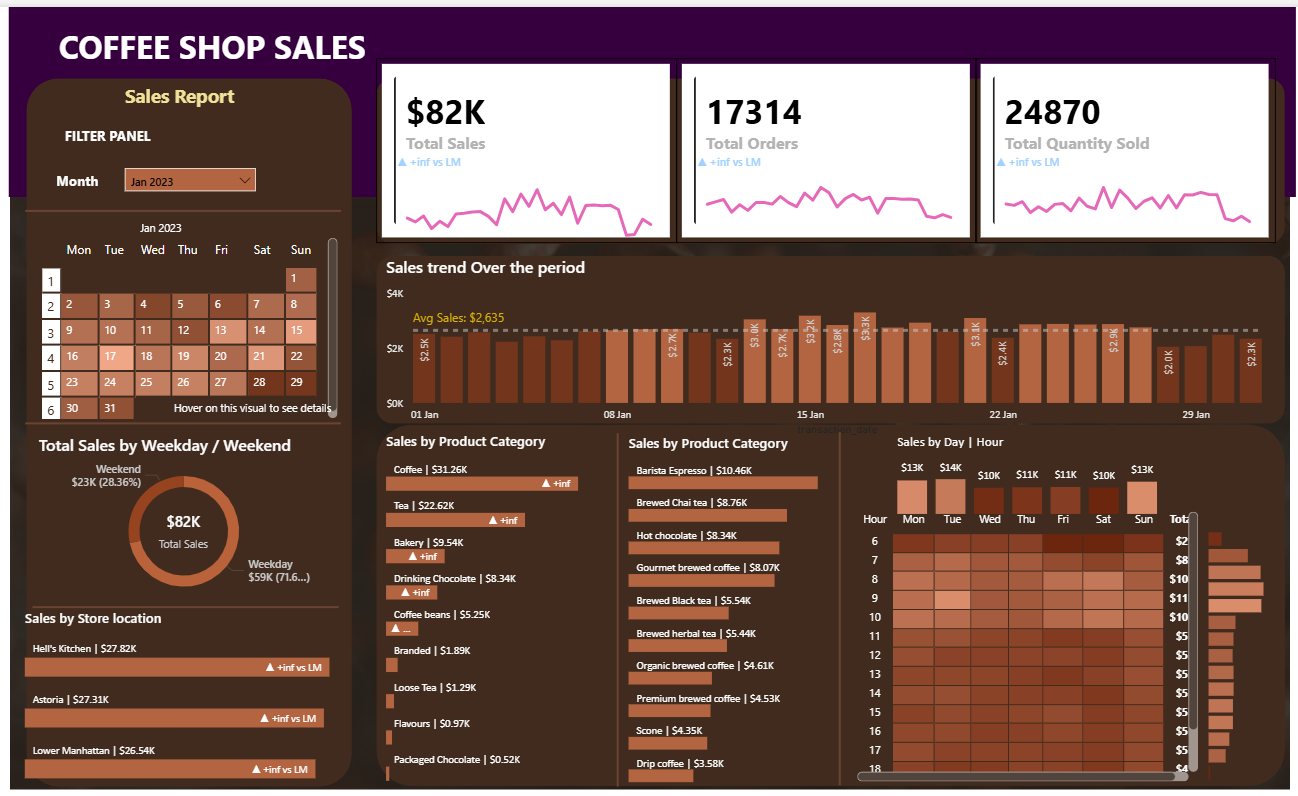

Layout of this report page (visuals, bound fields, positions):
{"tool":"powerbi","page":{"name":"Dashboard","canvas":[1400,850],"ordinal":0},"visuals":[{"type":"shape","box":[58.6,0,1287.1,190],"z":0},{"type":"shape","box":[75.7,71.4,325.7,708.6],"z":1000},{"type":"shape","box":[425.7,71.4,908.6,165.7],"z":2000},{"type":"textbox","box":[104,12.8,321.9,58.4],"z":3000},{"type":"cardVisual","fields":{"Data":["Transactions.Total Sales"]},"box":[425.9,51.3,300.5,185.2],"z":4000,"group":"g1"},{"type":"slicer","fields":{"Values":["Date Table.Month Year"]},"box":[169.5,156.7,141,35.6],"z":4000},{"type":"group","id":"g1","title":"Group 1","box":[425.9,51.3,300.5,185.2],"z":5000},{"type":"cardVisual","fields":{"Data":["Transactions.Total Orders"]},"box":[725.7,51.3,300.5,185.2],"z":5000,"group":"g2"},{"type":"cardVisual","fields":{"Data":["Transactions.Total Quantity Sold"]},"box":[1025.5,51.3,300.5,185.2],"z":5000,"group":"g3"},{"type":"group","id":"g2","title":"Group 2","box":[725.7,51.3,300.5,185.2],"z":6000},{"type":"lineChart","fields":{"Category":["Date Table.Date.Variation.Date Hierarchy.Year","Date Table.Date.Variation.Date Hierarchy.Quarter","Date Table.Date.Variation.Date Hierarchy.Month","Date Table.Date.Variation.Date Hierarchy.Day"],"Y":["Transactions.Total Sales"]},"box":[441.6,148.2,273.5,88.3],"z":6000,"group":"g1"},{"type":"group","id":"g3","title":"Group 2","box":[1025.5,51.3,300.5,185.2],"z":7000},{"type":"lineChart","fields":{"Category":["Date Table.Date.Variation.Date Hierarchy.Year","Date Table.Date.Variation.Date Hierarchy.Quarter","Date Table.Date.Variation.Date Hierarchy.Month","Date Table.Date.Variation.Date Hierarchy.Day"],"Y":["Transactions.Total Orders"]},"box":[741.4,148.2,273.5,78.3],"z":7000,"group":"g2"},{"type":"lineChart","fields":{"Category":["Date Table.Date.Variation.Date Hierarchy.Year","Date Table.Date.Variation.Date Hierarchy.Quarter","Date Table.Date.Variation.Date Hierarchy.Month","Date Table.Date.Variation.Date Hierarchy.Day"],"Y":["Transactions.Total Quantity Sold"]},"box":[1041.2,148.2,273.5,78.3],"z":7000,"group":"g3"},{"type":"pivotTable","fields":{"Rows":["Date Table.Week Number"],"Columns":["Date Table.Day Name"],"Values":["Min(Date Table.Day Number)"]},"box":[86.9,226.5,304.8,189.4],"z":8000},{"type":"cardVisual","fields":{"Data":["Min(Date Table.Month Year)"]},"box":[160.9,192.3,119.6,55.5],"z":9000},{"type":"cardVisual","fields":{"Data":["Transactions.Foot Note"]},"box":[195.1,373.2,219.3,52.7],"z":10000},{"type":"shape","box":[75.5,400.2,316.2,32.8],"z":11000},{"type":"shape","box":[75.5,188,316.2,32.8],"z":12000},{"type":"donutChart","fields":{"Category":["Date Table.Weekday / Weekend"],"Y":["Transactions.Total Sales"]},"box":[84,425.9,300.5,175],"z":13000},{"type":"card","fields":{"Values":["Transactions.Total Sales"]},"box":[185.2,489.9,96.9,66.9],"z":14000},{"type":"shape","box":[82.6,584,306.2,32.8],"z":15000},{"type":"clusteredBarChart","title":"Sales by Store location","fields":{"Category":["Transactions.store_location"],"Y":["Transactions.Placeholder","Transactions.Total Sales"]},"box":[69.8,601,339,178],"z":16000},{"type":"shape","box":[425.9,249.2,908.7,168.1],"z":17000},{"type":"shape","box":[425.9,417.3,908.7,361.8],"z":18000},{"type":"columnChart","title":"Sales trend Over the period","fields":{"Category":["Transactions.transaction_date"],"Y":["Transactions.Total Sales"]},"box":[431.6,249.2,888.7,185.2],"z":19000},{"type":"clusteredBarChart","title":"Sales by Product Category","fields":{"Y":["Transactions.Placeholder","Transactions.Total Sales"],"Category":["Transactions.product_category"]},"box":[431.6,424.4,229.3,354.6],"z":20000},{"type":"shape","box":[660.9,425.9,12.8,353.2],"z":21000},{"type":"clusteredBarChart","title":"Sales by Product Category","fields":{"Y":["Transactions.Placeholder","Transactions.Total Sales"],"Category":["Transactions.product_type"]},"box":[673.7,425.9,229.3,354.6],"z":22000},{"type":"shape","box":[875.9,424.4,27.1,353.2],"z":23000},{"type":"pivotTable","fields":{"Rows":["Transactions.Hour"],"Columns":["Date Table.Day Name"],"Values":["Transactions.Total Sales"]},"box":[903,499.9,350.4,279.2],"z":24000},{"type":"barChart","fields":{"Category":["Transactions.Hour"],"Y":["Transactions.Total Sales"]},"box":[1253.4,512.7,88.3,264.9],"z":25000},{"type":"columnChart","title":"Sales by Day | Hour","fields":{"Y":["Transactions.Total Sales"],"Category":["Date Table.Day Name"]},"box":[942.9,425.9,270.6,86.9],"z":26000},{"type":"textbox","box":[101.1,159.5,68.4,28.5],"z":27000},{"type":"textbox","box":[169.5,71.2,129.6,37],"z":28000},{"type":"textbox","box":[109.7,115.4,104,28.5],"z":29000}]}

Visuals, with their boxes in screenshot pixels (x1, y1, x2, y2), scaled from the page's 1400x850 canvas onto the 1298x796 screenshot:
shape: 54/0/1248/178
shape: 70/67/372/730
shape: 395/67/1237/222
textbox: 96/12/395/67
cardVisual - Transactions.Total Sales: 395/48/673/221
slicer - Date Table.Month Year: 157/147/288/180
"Group 1" group: 395/48/673/221
cardVisual - Transactions.Total Orders: 673/48/951/221
cardVisual - Transactions.Total Quantity Sold: 951/48/1229/221
"Group 2" group: 673/48/951/221
lineChart - Date Table.Date.Variation.Date Hierarchy.Year x Date Table.Date.Variation.Date Hierarchy.Quarter: 409/139/663/221
"Group 2" group: 951/48/1229/221
lineChart - Date Table.Date.Variation.Date Hierarchy.Year x Date Table.Date.Variation.Date Hierarchy.Quarter: 687/139/941/212
lineChart - Date Table.Date.Variation.Date Hierarchy.Year x Date Table.Date.Variation.Date Hierarchy.Quarter: 965/139/1219/212
pivotTable - Date Table.Week Number x Date Table.Day Name: 81/212/363/389
cardVisual - Min(Date Table.Month Year): 149/180/260/232
cardVisual - Transactions.Foot Note: 181/349/384/399
shape: 70/375/363/405
shape: 70/176/363/207
donutChart - Date Table.Weekday / Weekend x Transactions.Total Sales: 78/399/356/563
card - Transactions.Total Sales: 172/459/262/521
shape: 77/547/360/578
"Sales by Store location" clusteredBarChart: 65/563/379/730
shape: 395/233/1237/391
shape: 395/391/1237/730
"Sales trend Over the period" columnChart: 400/233/1224/407
"Sales by Product Category" clusteredBarChart: 400/397/613/730
shape: 613/399/625/730
"Sales by Product Category" clusteredBarChart: 625/399/837/731
shape: 812/397/837/728
pivotTable - Transactions.Hour x Date Table.Day Name: 837/468/1162/730
barChart - Transactions.Hour x Transactions.Total Sales: 1162/480/1244/728
"Sales by Day | Hour" columnChart: 874/399/1125/480
textbox: 94/149/157/176
textbox: 157/67/277/101
textbox: 102/108/198/135
